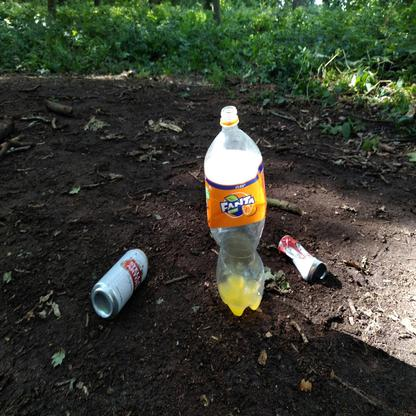can: (90, 247, 148, 317), (278, 234, 327, 284)
plastic bottle: (203, 106, 267, 315)
